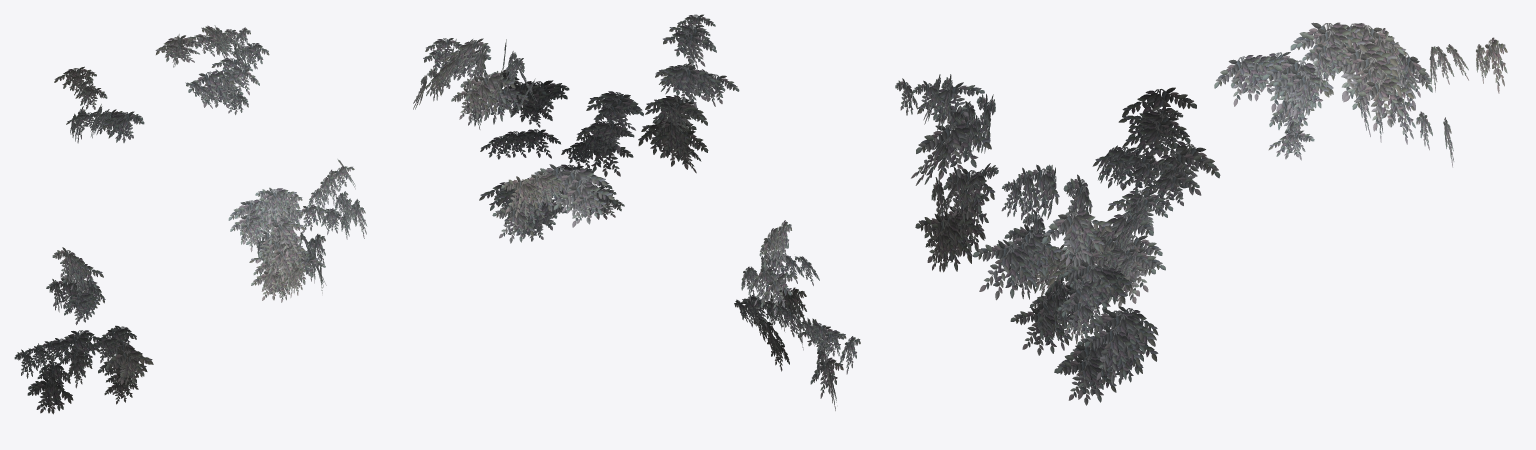
Rendered from willow_l0.gltf.
3 views of the same model, side by side, from view 1: azimuth 30°, elevation 25°; view 2: azimuth 150°, elevation 25°; view 3: azimuth 270°, elevation 25° (orthographic). The views are drawn at different scales.
Parts seen in each view (by area): view 1: willow_l0; view 2: willow_l0; view 3: willow_l0.
Boxes of the visible parts, <box> form: willow_l0: <box>14,25,367,414</box>; willow_l0: <box>413,14,860,410</box>; willow_l0: <box>895,22,1507,405</box>.
Bounding box in the file's own units: 9.03 × 8.22 × 9.46.
1 material, 1 textured.
